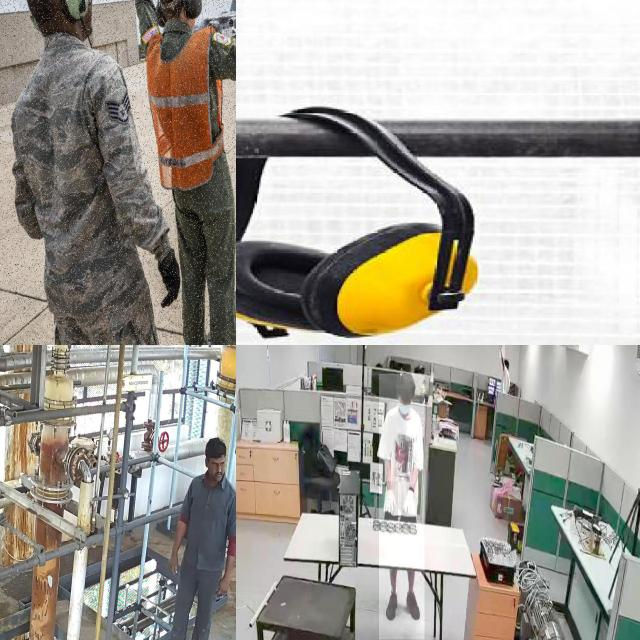Ear-protection: (236, 189, 476, 345), (20, 0, 99, 52), (152, 0, 210, 58)
No_Ear-Protection: (204, 458, 208, 468)
No_Glasses: (211, 461, 224, 467)
face_mask: (396, 384, 412, 414)
hand_glove: (401, 484, 421, 520), (385, 481, 398, 519)
hand_noglove: (170, 521, 188, 572), (218, 554, 235, 594), (499, 345, 504, 357)
head_nohelmet: (158, 0, 194, 21), (205, 438, 226, 459), (396, 372, 416, 389), (503, 358, 509, 364)
person: (0, 0, 174, 345), (120, 0, 236, 345), (379, 373, 425, 640), (493, 345, 512, 388)
shoes: (404, 586, 422, 628), (384, 589, 400, 626)
vest: (147, 34, 226, 200)
